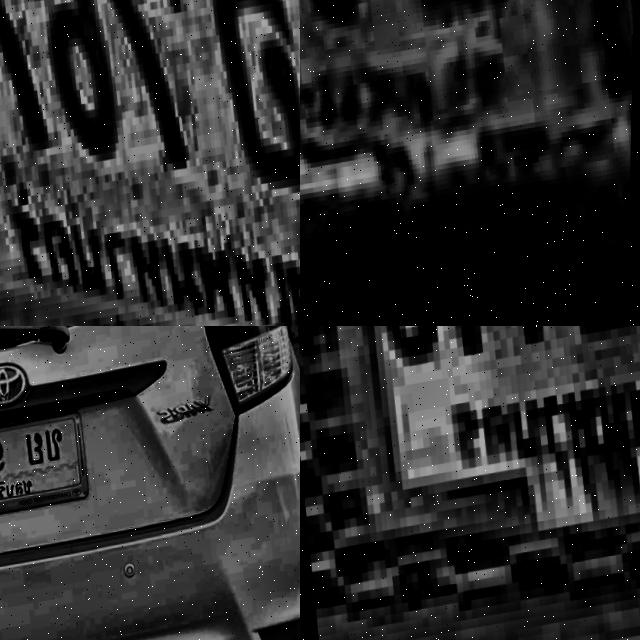license-plate: (300, 0, 640, 326), (300, 326, 640, 635), (0, 0, 300, 326), (0, 408, 95, 530)
